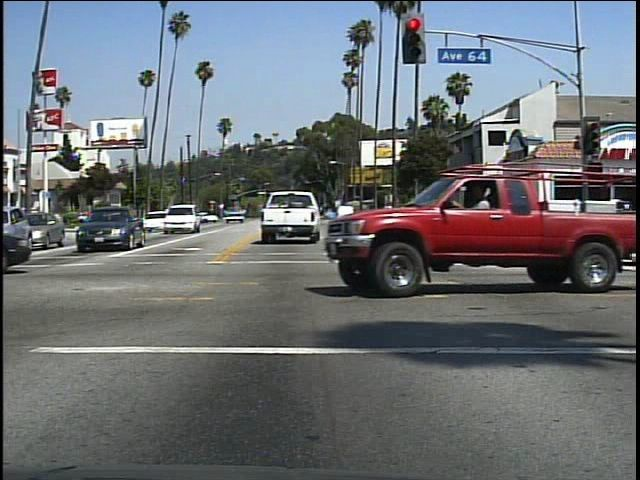person: (463, 179, 503, 292), (476, 199, 502, 236)
